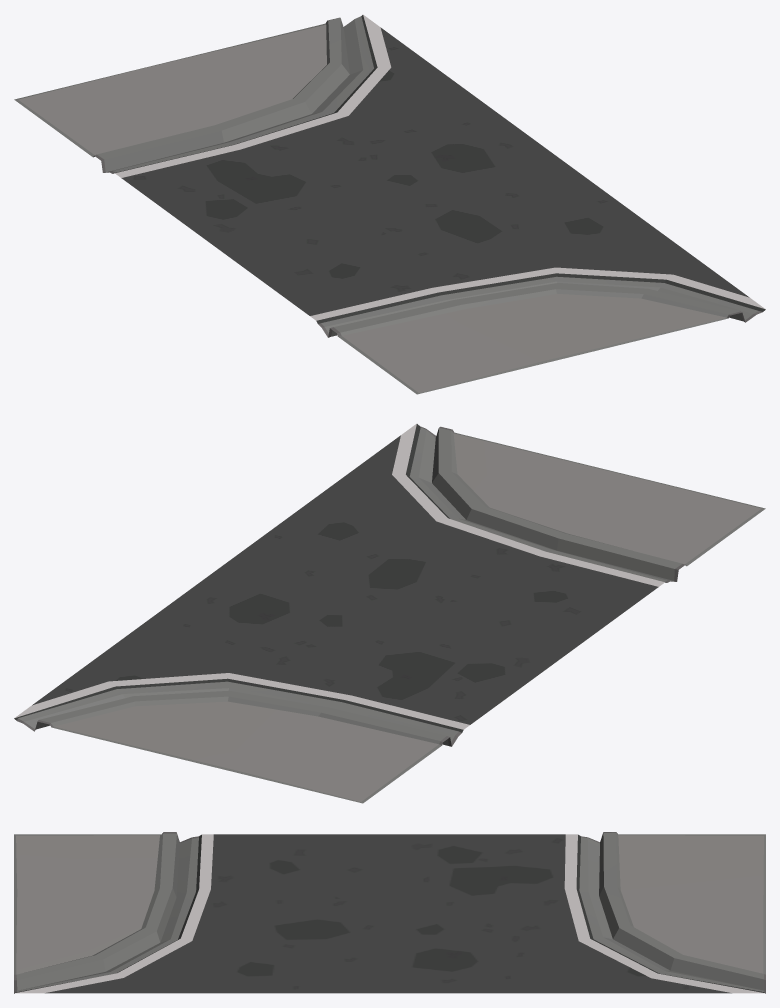
Rendered from SM_Env_Drive_Thru_Entrance_01.obj.
The picture shows the model from 3 angles, top to bottom: view 1: azimuth 30°, elevation 25°; view 2: azimuth 150°, elevation 25°; view 3: azimuth 270°, elevation 25°; orthographic projection. The views are drawn at different scales.
Parts seen in each view (by area): view 1: SM_Env_Drive_Thru_Entrance_01_0; view 2: SM_Env_Drive_Thru_Entrance_01_0; view 3: SM_Env_Drive_Thru_Entrance_01_0.
Part boxes in pixels (bbox=[...]): SM_Env_Drive_Thru_Entrance_01_0: bbox=[14, 14, 765, 394]; SM_Env_Drive_Thru_Entrance_01_0: bbox=[14, 423, 765, 803]; SM_Env_Drive_Thru_Entrance_01_0: bbox=[14, 832, 765, 993].
Bounding box in the file's own units: 5 × 0.1621 × 10.
Materials: 1 (1 with a texture image).
